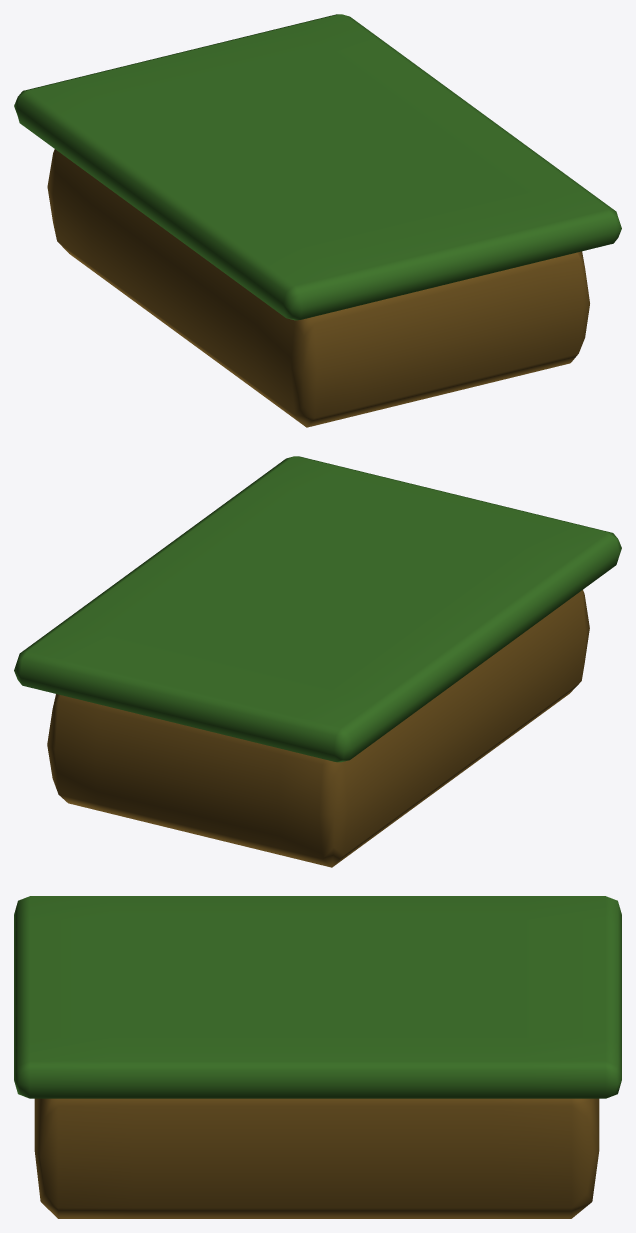
Rendered from Plataforma_tierra 1.fbx.
The picture shows the model from 3 angles, top to bottom: view 1: azimuth 30°, elevation 25°; view 2: azimuth 150°, elevation 25°; view 3: azimuth 270°, elevation 25°; orthographic projection. The views are drawn at different scales.
Parts seen in each view (by area): view 1: pCube7, pCube6; view 2: pCube7, pCube6; view 3: pCube7, pCube6.
Part boxes in pixels (x1,y1,x2,y2): pCube7: (14,14,621,320); pCube6: (47,149,589,427); pCube7: (14,456,621,762); pCube6: (47,590,589,867); pCube7: (14,896,621,1098); pCube6: (34,1098,599,1218).
Bounding box in the file's own units: 10.25 × 4.6 × 14.87.
